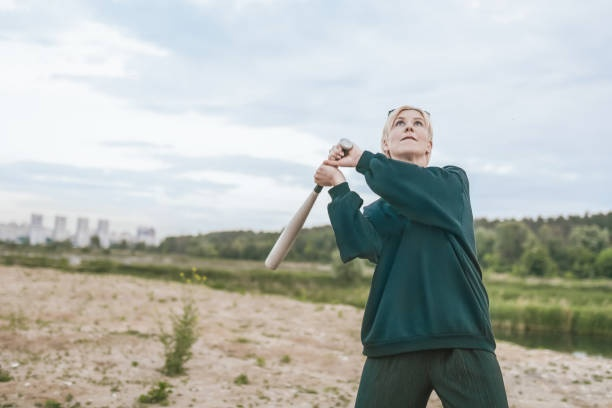bita: (260, 136, 360, 282)
